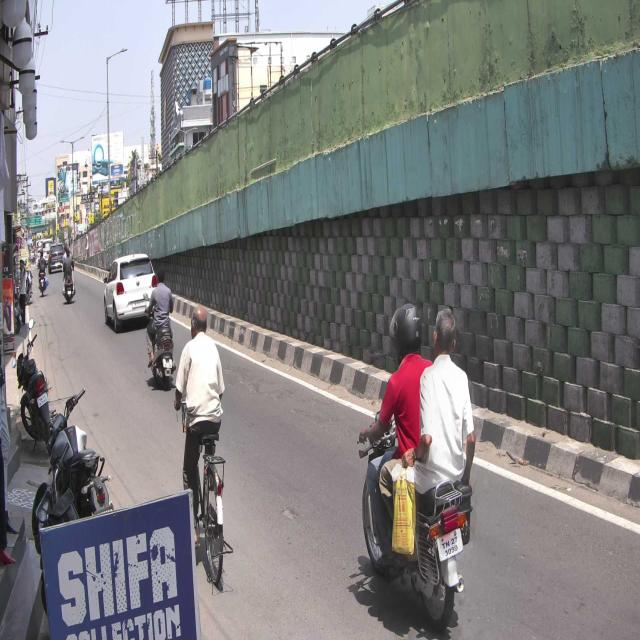double_rider: (358, 299, 476, 628)
